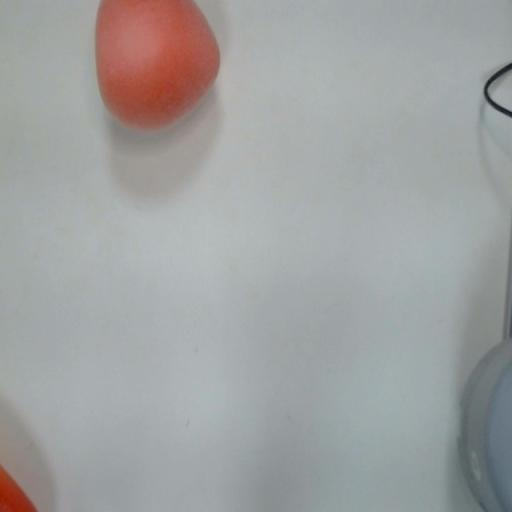Ripe: (91, 4, 229, 142)
